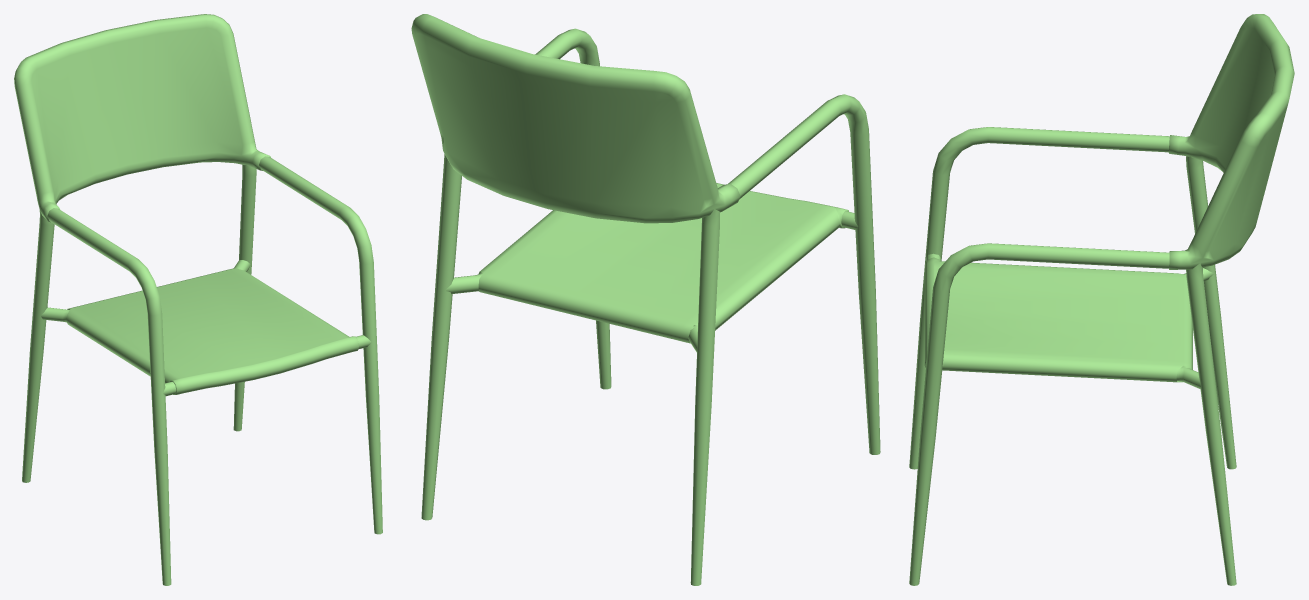
Rendered from chair-1u.FBX.
The picture shows the model from 3 angles, left to right: view 1: azimuth 30°, elevation 25°; view 2: azimuth 150°, elevation 25°; view 3: azimuth 270°, elevation 25°; orthographic projection. The views are drawn at different scales.
Parts seen in each view (by area): view 1: chair-1u_LOD0; view 2: chair-1u_LOD0; view 3: chair-1u_LOD0.
Boxes of the visible parts, x1,y1,x2,y2 form: chair-1u_LOD0: (14,14,382,585); chair-1u_LOD0: (411,14,880,585); chair-1u_LOD0: (909,14,1294,585).
Size of what is drawn, in the model's own units: 51.52 by 88.77 by 67.27.
